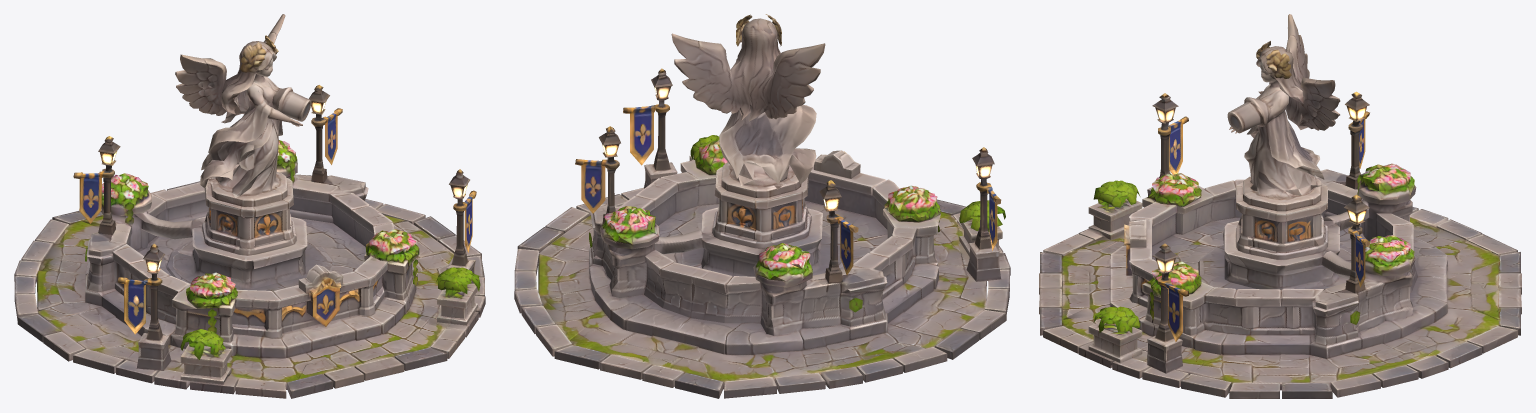
File: plaza-angel-fountain.glb
The picture shows the model from 3 angles, left to right: view 1: azimuth 30°, elevation 25°; view 2: azimuth 150°, elevation 25°; view 3: azimuth 270°, elevation 25°; orthographic projection. The views are drawn at different scales.
Parts seen in each view (by area): view 1: plaza-angel-fountain; view 2: plaza-angel-fountain; view 3: plaza-angel-fountain.
Part boxes in pixels (x1=…): plaza-angel-fountain: x1=14, y1=14, x2=485, y2=398; plaza-angel-fountain: x1=514, y1=14, x2=1010, y2=398; plaza-angel-fountain: x1=1039, y1=14, x2=1521, y2=398.
Bounding box in the file's own units: 15.31 × 9 × 15.37.
Materials: 1 (1 with a texture image).
